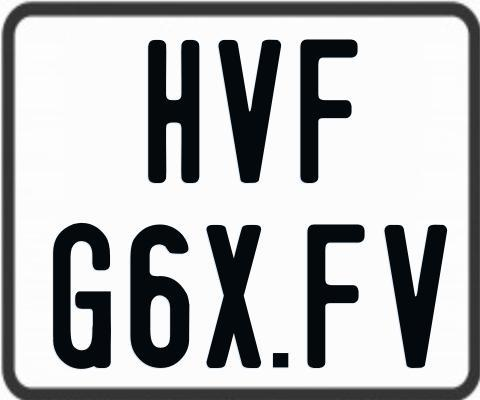6: (129, 223, 194, 367)
F: (304, 221, 368, 368), (300, 39, 360, 188)
G: (53, 221, 112, 370)
H: (148, 37, 204, 180)
V: (382, 222, 451, 371), (218, 39, 285, 183)
X: (207, 223, 267, 370)
